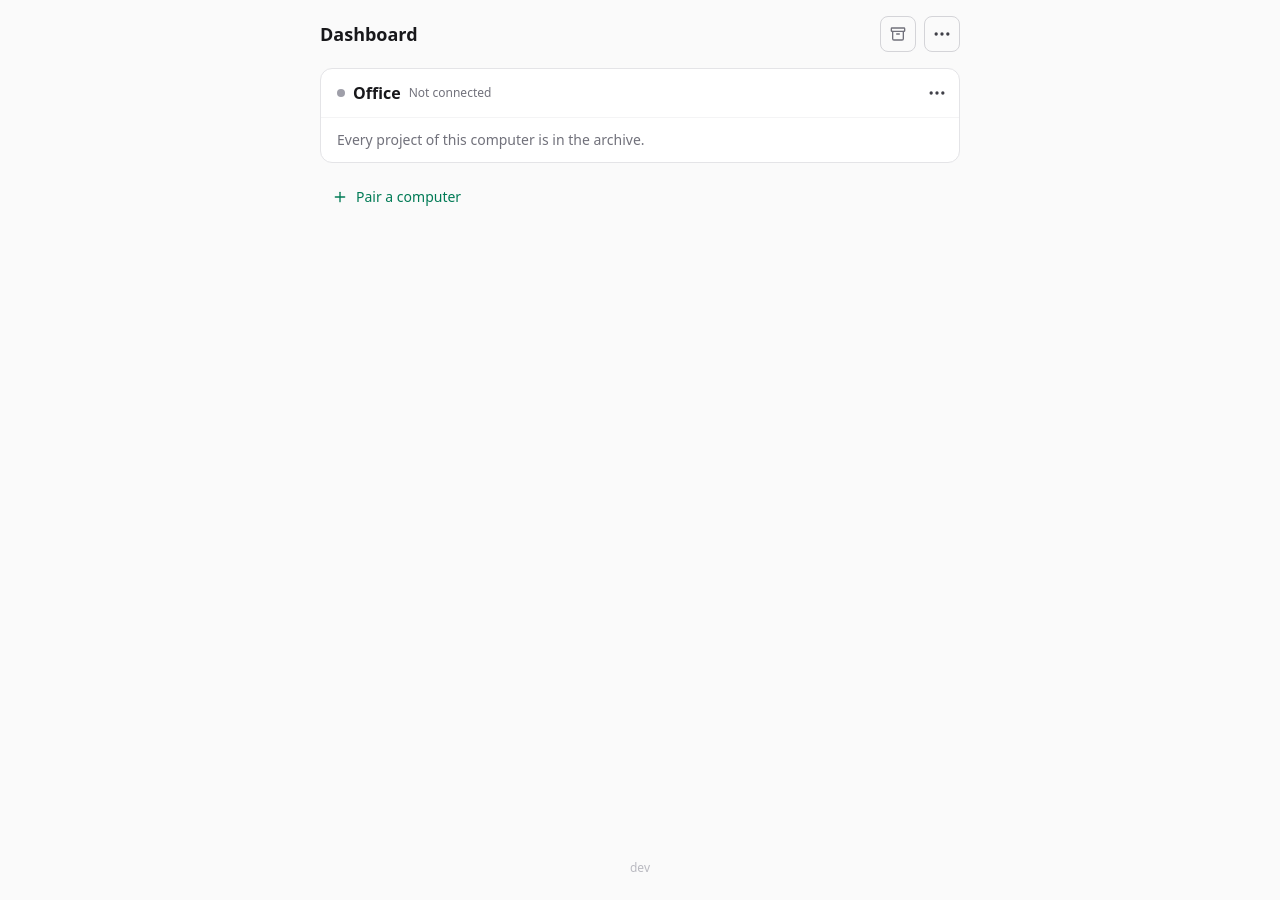
Test case: Dashboard › a computer that can not archive now: nothing to archive, restoring waits for it
Expected: the text "Every project of this computer is in the archive." is shown, left=321, top=117, right=959, bottom=162
Step 1. Click the button named "Archive" → (898, 34), box left=880, top=16, right=916, bottom=52
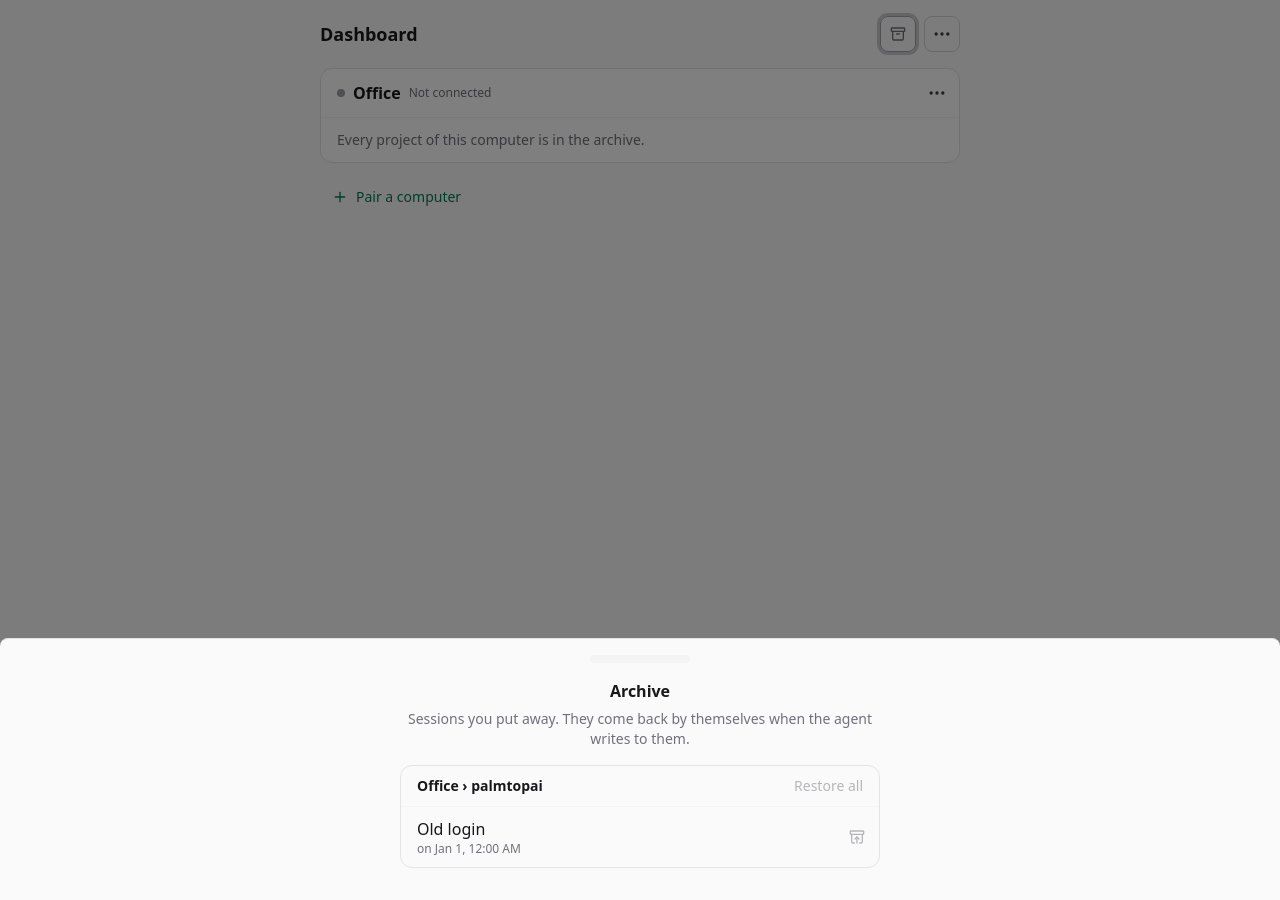
Expected: the button named "Restore Old login" is disabled, left=839, top=819, right=875, bottom=855
